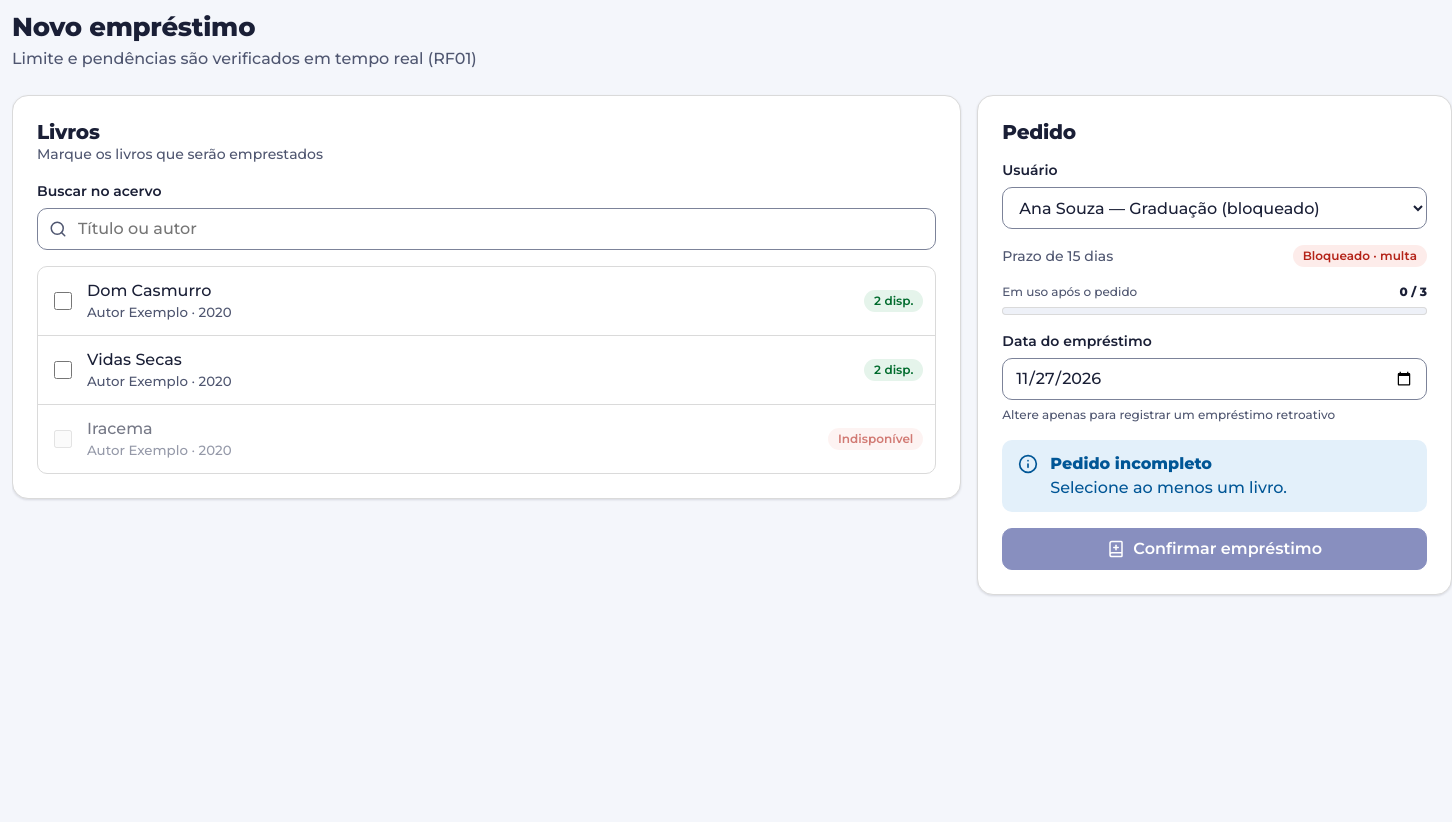
Test: UI — Novo empréstimo (RF01 em tempo real) › UI13 — usuário com pendência é recusado com o motivo do RF01
Expected: the text "Dom Casmurro" is shown, [87,281,211,300]
Click the checkbox labelled "Dom Casmurro Autor Exemplo · 2020 2 disp.".
click(63, 301)  # box [54,292,72,310]
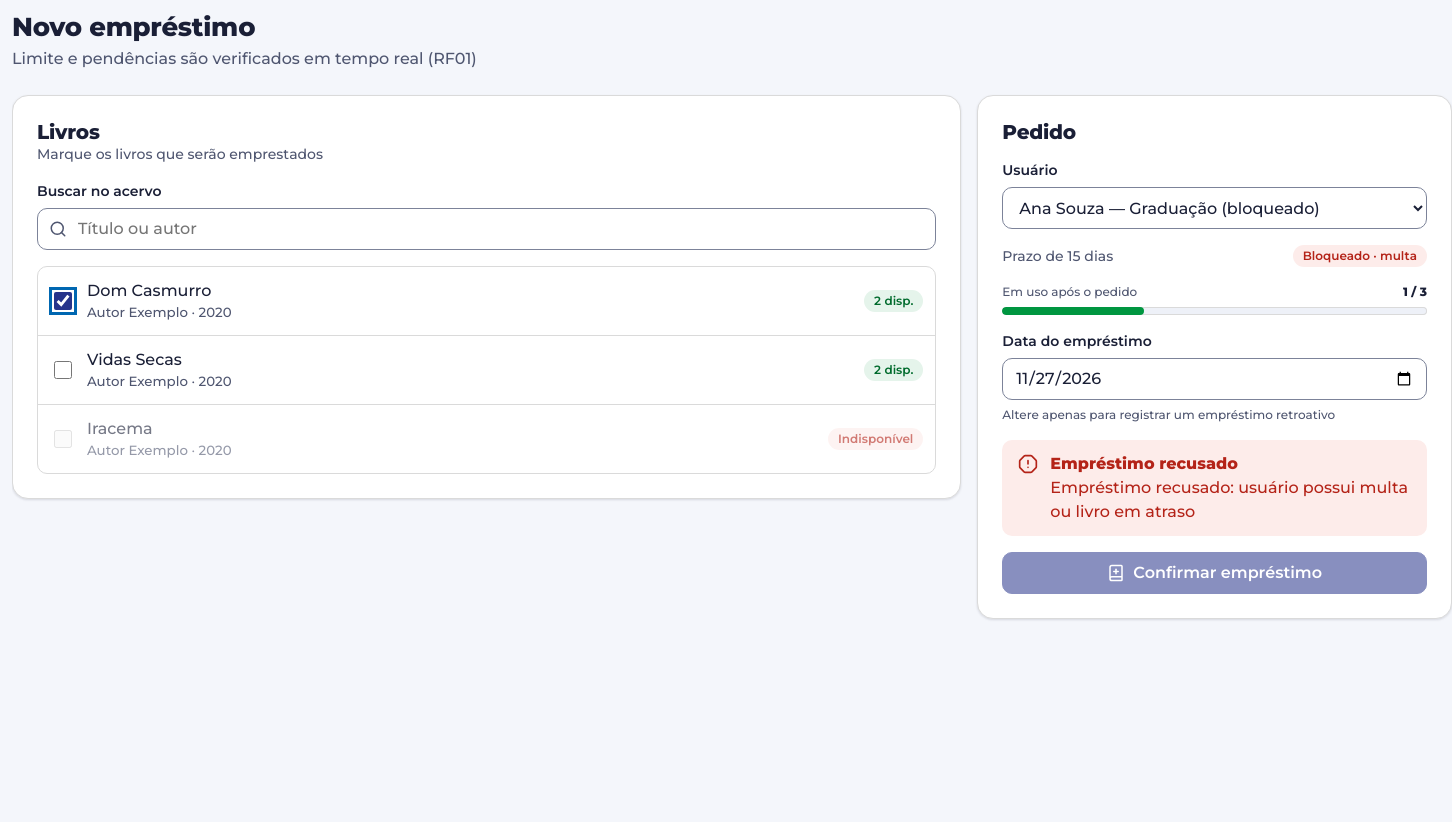
Expected: the text "Empréstimo recusado: usuário possui multa ou livro em atraso" is shown, [1050,478,1408,521]
